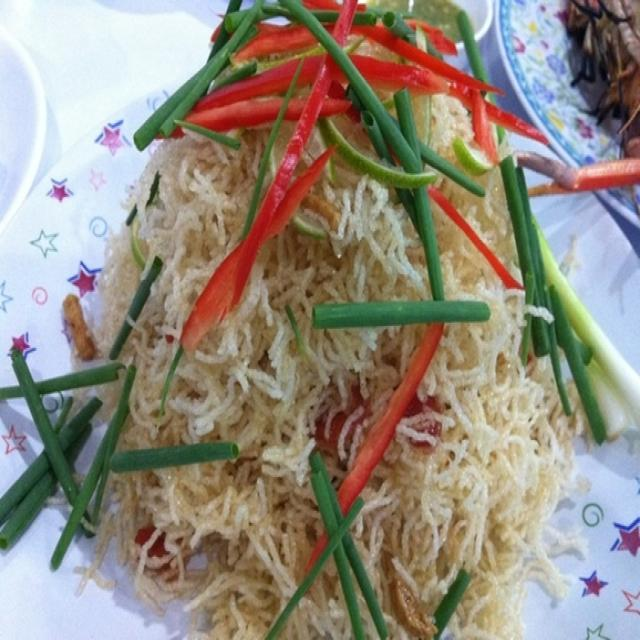面条主食: (50, 40, 578, 627)
